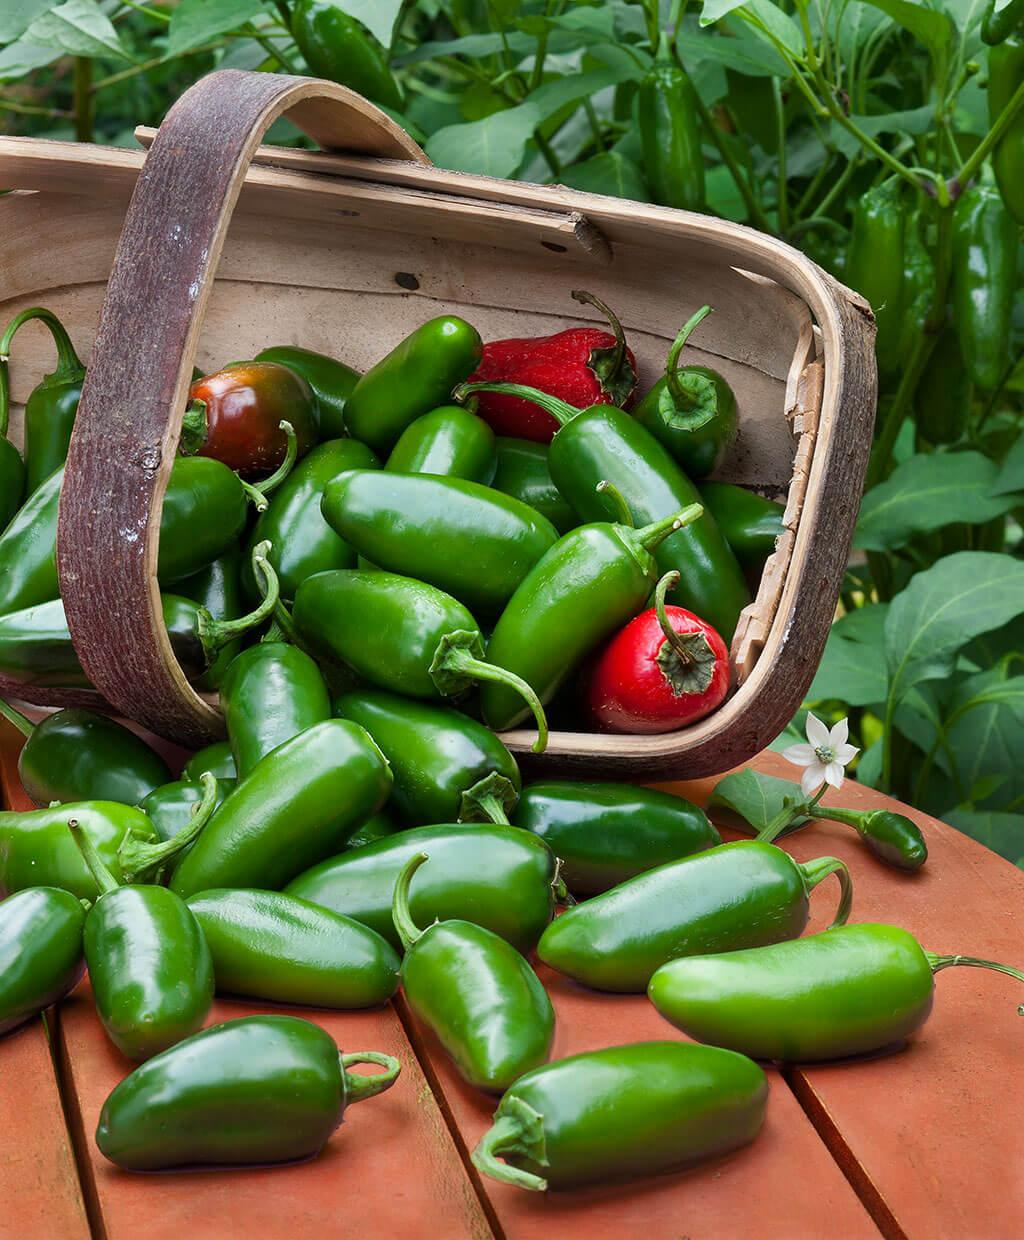jalepeno: (2, 292, 1015, 1192), (5, 292, 786, 751), (646, 920, 1022, 1063), (480, 500, 703, 731), (543, 399, 751, 644), (535, 837, 852, 994), (93, 1011, 400, 1173), (470, 1038, 769, 1193), (291, 566, 549, 740), (166, 716, 392, 895), (390, 849, 555, 1091), (282, 820, 564, 952), (318, 466, 559, 612), (450, 288, 637, 442), (182, 885, 401, 1009), (510, 778, 721, 895), (585, 569, 731, 734), (81, 881, 215, 1060), (708, 773, 928, 871), (340, 313, 483, 448), (633, 303, 739, 476), (177, 359, 320, 487), (0, 305, 87, 500), (0, 797, 160, 902), (16, 705, 170, 807), (637, 28, 707, 212), (0, 882, 86, 1030)
